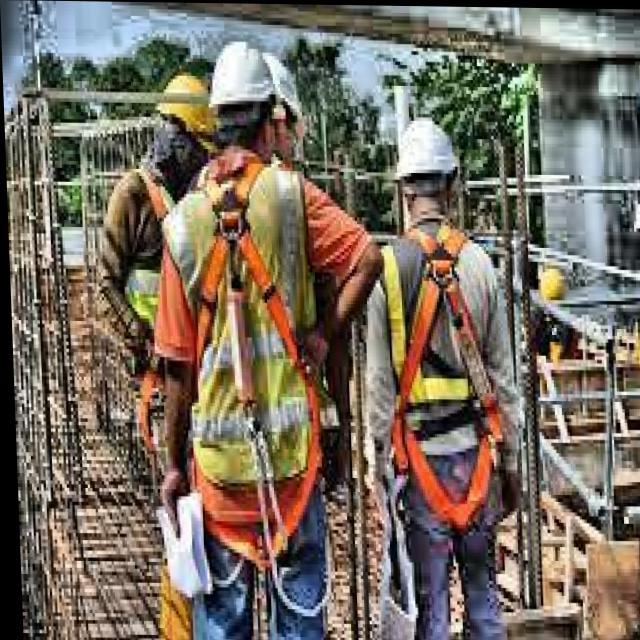belt: (174, 148, 326, 564), (376, 224, 509, 530)
